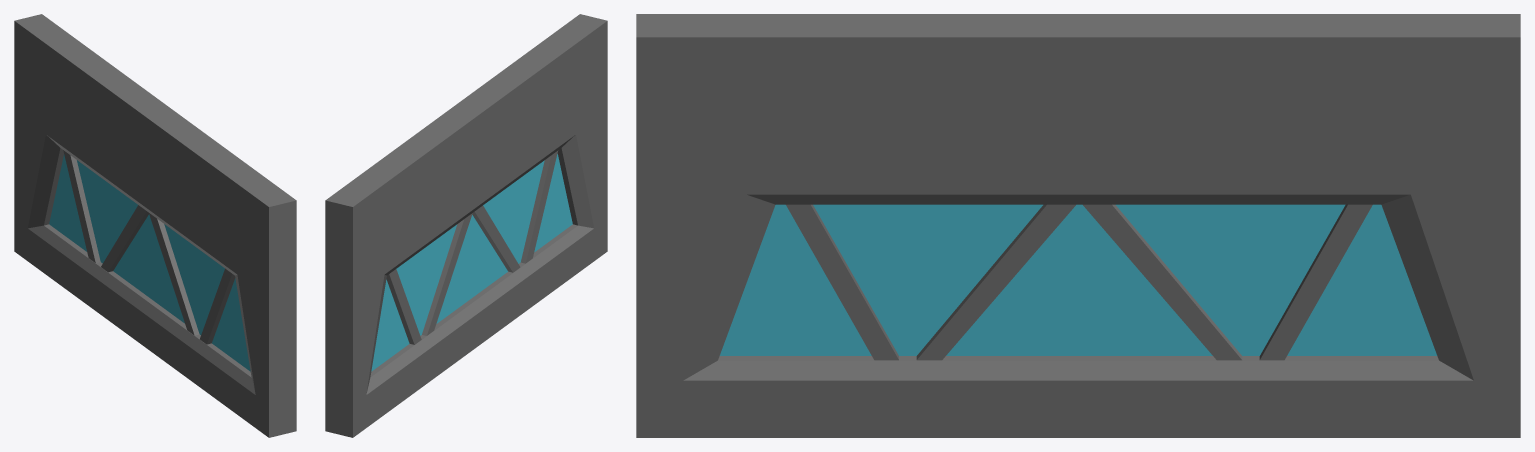
The model's file is SM_B2_Wall5_SM_B2_Wall5.fbx.
3 renders of one model, left to right at view 1: azimuth 30°, elevation 25°; view 2: azimuth 150°, elevation 25°; view 3: azimuth 270°, elevation 25°, orthographic. The views are drawn at different scales.
Parts seen in each view (by area): view 1: SM_B2_Wall5_SM_B2_Wall5; view 2: SM_B2_Wall5_SM_B2_Wall5; view 3: SM_B2_Wall5_SM_B2_Wall5.
Boxes of the visible parts, <box> form: SM_B2_Wall5_SM_B2_Wall5: <box>14,14,296,437</box>; SM_B2_Wall5_SM_B2_Wall5: <box>325,14,607,437</box>; SM_B2_Wall5_SM_B2_Wall5: <box>636,14,1520,437</box>.
Size of the model in its own units: 50.77 by 812 by 406.
1 material, 1 textured.
